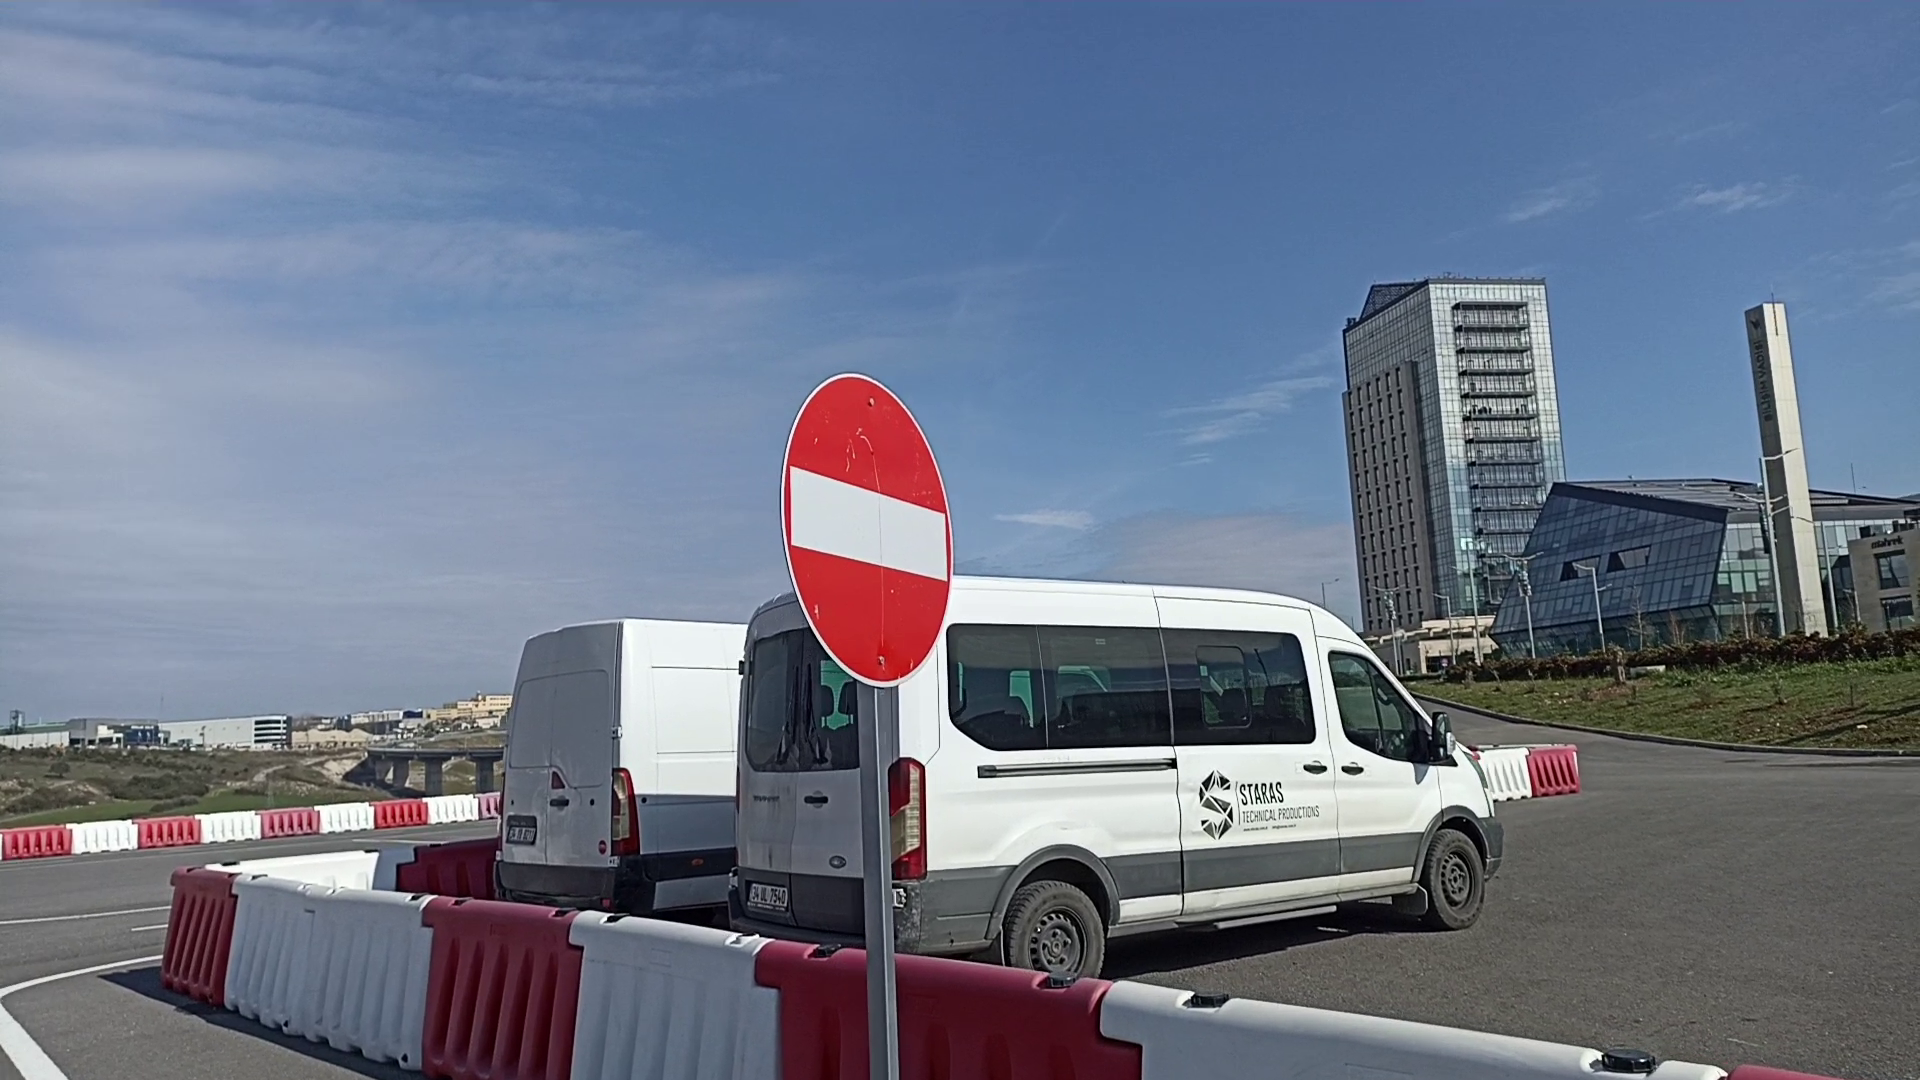noentryway: (775, 369, 963, 692)
